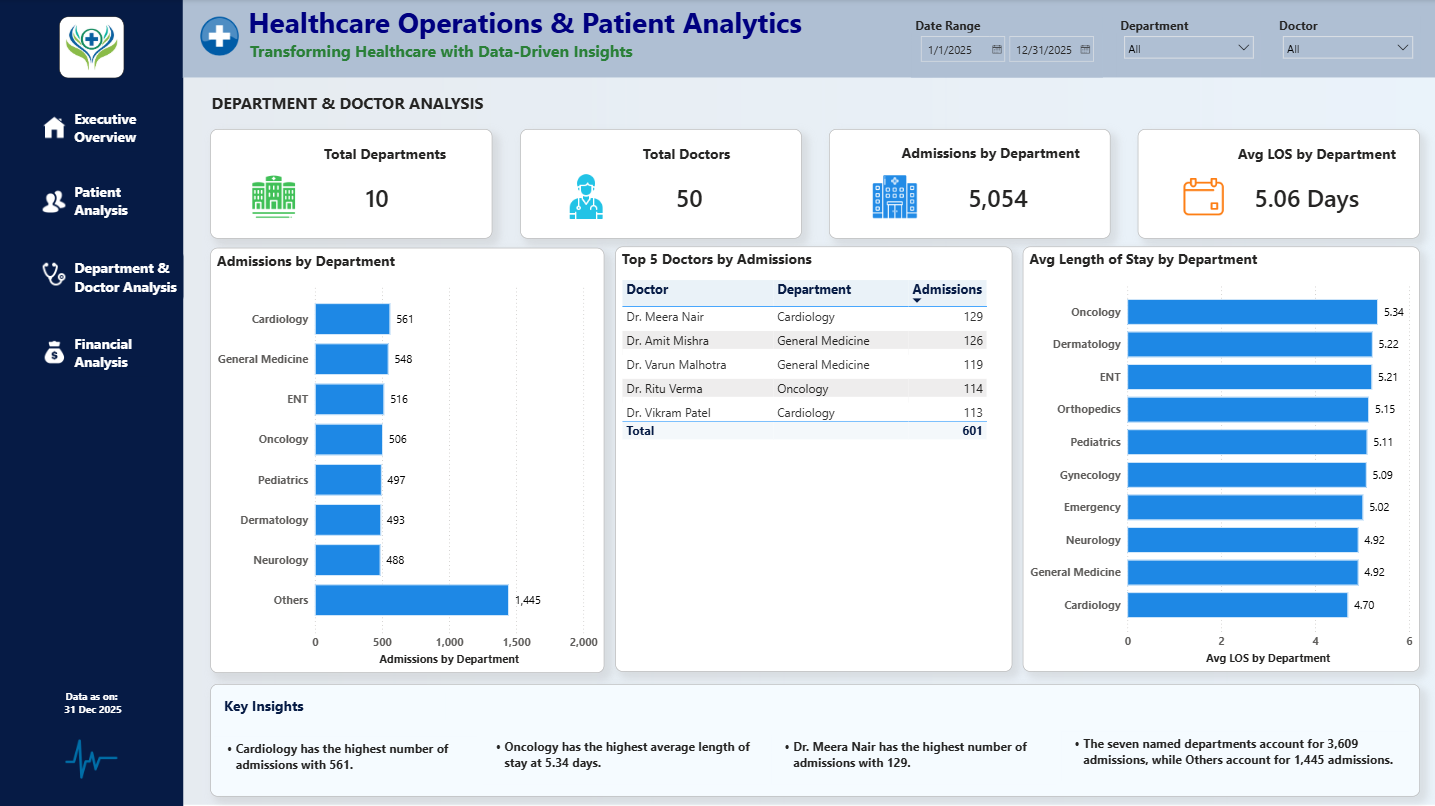

What the dashboard file says about the page in this screenshot:
{"tool":"powerbi","page":{"name":"Department & Doctor Analysis","canvas":[1920,1080],"ordinal":2},"visuals":[{"type":"group","id":"g1","title":"Group 1","box":[0,0,1920,1079],"z":0},{"type":"shape","box":[0,0,246.1,1079],"z":1000,"group":"g1"},{"type":"shape","box":[97.7,139.3,95.9,65.1],"z":1000},{"type":"textbox","box":[246.1,0,1673.9,105],"z":2000,"group":"g1"},{"type":"image","box":[54.3,157.4,37.4,30.2],"z":2000},{"type":"image","box":[79.6,23.5,86.9,82.1],"z":3000,"group":"g1"},{"type":"shape","box":[97.7,235.3,133.9,67],"z":3000},{"type":"image","box":[54.3,255.2,37,30],"z":4000},{"type":"shape","box":[97.7,336.6,148.4,67],"z":5000},{"type":"image","box":[54.3,352.9,37,30],"z":6000},{"type":"shape","box":[97.7,439.7,108.6,65.1],"z":7000},{"type":"image","box":[54.3,447,37.4,48.3],"z":8000},{"type":"actionButton","box":[39.8,139.8,166.5,65.1],"z":9000},{"type":"actionButton","box":[39.8,239.2,166.5,65.1],"z":10000},{"type":"actionButton","box":[39.8,338.6,206.3,65.1],"z":11000},{"type":"actionButton","box":[45.2,437.9,166.5,65.1],"z":12000},{"type":"image","box":[14.5,979.4,217,70],"z":12000,"group":"g1"},{"type":"image","box":[264.2,23.5,61.5,59.7],"z":13000,"group":"g1"},{"type":"textbox","box":[278.7,119,398.1,39.8],"z":13000},{"type":"cardVisual","fields":{"Data":["Admissions.Total Departments"]},"box":[282.3,173.7,376.4,146.6],"z":14000},{"type":"textbox","box":[428.9,188.2,173.7,38],"z":15000},{"type":"slicer","title":"Date Range","fields":{"Values":["DateTable.Date"]},"box":[1219.7,23.5,255,81.4],"z":16000,"group":"g1"},{"type":"cardVisual","fields":{"Data":["Admissions.Total Doctors"]},"box":[695.5,173.7,376,146.6],"z":16000},{"type":"textbox","box":[854.2,188.2,143,38],"z":17000},{"type":"cardVisual","fields":{"Data":["Admissions.Admissions by Department"]},"box":[1108.7,173.7,376,146.6],"z":18000},{"type":"textbox","box":[1200.5,187.5,253.4,38],"z":19000},{"type":"cardVisual","fields":{"Data":["Admissions.Avg LOS by Department Display"]},"box":[1521.9,173.7,376.4,146.6],"z":20000},{"type":"textbox","box":[1650.4,188.2,228,38],"z":21000},{"type":"clusteredBarChart","title":"Admissions by Department","fields":{"Y":["Admissions.Admissions by Department"],"Category":["Admissions.Department Group"]},"box":[282.3,333,526.6,568.2],"z":22000},{"type":"tableEx","title":"Top 5 Doctors by Admissions","fields":{"Values":["Doctors.DoctorName","Departments.DepartmentName","Admissions.Admissions by Department"]},"box":[823.4,331.2,530.2,568.2],"z":23000},{"type":"clusteredBarChart","title":"Avg Length of Stay by Department","fields":{"Category":["Departments.DepartmentName"],"Y":["Admissions.Avg LOS by Department"]},"box":[1368.1,331.2,530.2,568.2],"z":24000},{"type":"slicer","title":"Doctor","fields":{"Values":["Doctors.DoctorName"]},"box":[1704.7,23.5,193.6,81],"z":25000},{"type":"shape","box":[282.3,915.7,1616,150.2],"z":26000},{"type":"textbox","box":[287.7,984.5,351.1,67],"z":27000},{"type":"textbox","box":[645.5,982.6,380,67],"z":28000},{"type":"textbox","box":[295,926.5,300.4,52.5],"z":29000},{"type":"textbox","box":[1032.1,982.6,380,67],"z":30000},{"type":"textbox","box":[1418.8,979,465,66],"z":31000},{"type":"slicer","title":"Department","fields":{"Values":["Departments.DepartmentName"]},"box":[1493.2,23.5,193,81],"z":44000,"group":"g1"},{"type":"textbox","box":[14.5,916,217.2,54.3],"z":51000,"group":"g1"}]}

Visuals, with their boxes in screenshot pixels (x1, y1, x2, y2), scaled from the page's 1920x1080 canvas onto the 1435x806 screenshot:
"Group 1" group: left=0, top=0, right=1434, bottom=805
shape: left=0, top=0, right=184, bottom=805
shape: left=73, top=104, right=145, bottom=153
textbox: left=184, top=0, right=1434, bottom=78
image: left=41, top=117, right=69, bottom=140
image: left=59, top=18, right=124, bottom=79
shape: left=73, top=176, right=173, bottom=226
image: left=41, top=190, right=68, bottom=213
shape: left=73, top=251, right=184, bottom=301
image: left=41, top=263, right=68, bottom=286
shape: left=73, top=328, right=154, bottom=377
image: left=41, top=334, right=69, bottom=370
actionButton: left=30, top=104, right=154, bottom=153
actionButton: left=30, top=179, right=154, bottom=227
actionButton: left=30, top=253, right=184, bottom=301
actionButton: left=34, top=327, right=158, bottom=375
image: left=11, top=731, right=173, bottom=783
image: left=197, top=18, right=243, bottom=62
textbox: left=208, top=89, right=506, bottom=119
cardVisual - Admissions.Total Departments: left=211, top=130, right=492, bottom=239
textbox: left=321, top=140, right=450, bottom=169
"Date Range" slicer: left=912, top=18, right=1102, bottom=78
cardVisual - Admissions.Total Doctors: left=520, top=130, right=801, bottom=239
textbox: left=638, top=140, right=745, bottom=169
cardVisual - Admissions.Admissions by Department: left=829, top=130, right=1110, bottom=239
textbox: left=897, top=140, right=1087, bottom=168
cardVisual - Admissions.Avg LOS by Department Display: left=1137, top=130, right=1419, bottom=239
textbox: left=1234, top=140, right=1404, bottom=169
"Admissions by Department" clusteredBarChart: left=211, top=249, right=605, bottom=673
"Top 5 Doctors by Admissions" tableEx: left=615, top=247, right=1012, bottom=671
"Avg Length of Stay by Department" clusteredBarChart: left=1023, top=247, right=1419, bottom=671
"Doctor" slicer: left=1274, top=18, right=1419, bottom=78
shape: left=211, top=683, right=1419, bottom=795
textbox: left=215, top=735, right=477, bottom=785
textbox: left=482, top=733, right=766, bottom=783
textbox: left=220, top=691, right=445, bottom=731
textbox: left=771, top=733, right=1055, bottom=783
textbox: left=1060, top=731, right=1408, bottom=780
"Department" slicer: left=1116, top=18, right=1260, bottom=78
textbox: left=11, top=684, right=173, bottom=724
